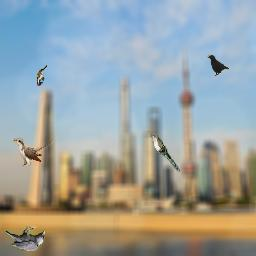Crow: (5, 226, 45, 251), (207, 54, 229, 76)
Cuckoo: (149, 133, 180, 173), (13, 137, 53, 166)
Woodpecker: (37, 65, 47, 86)
